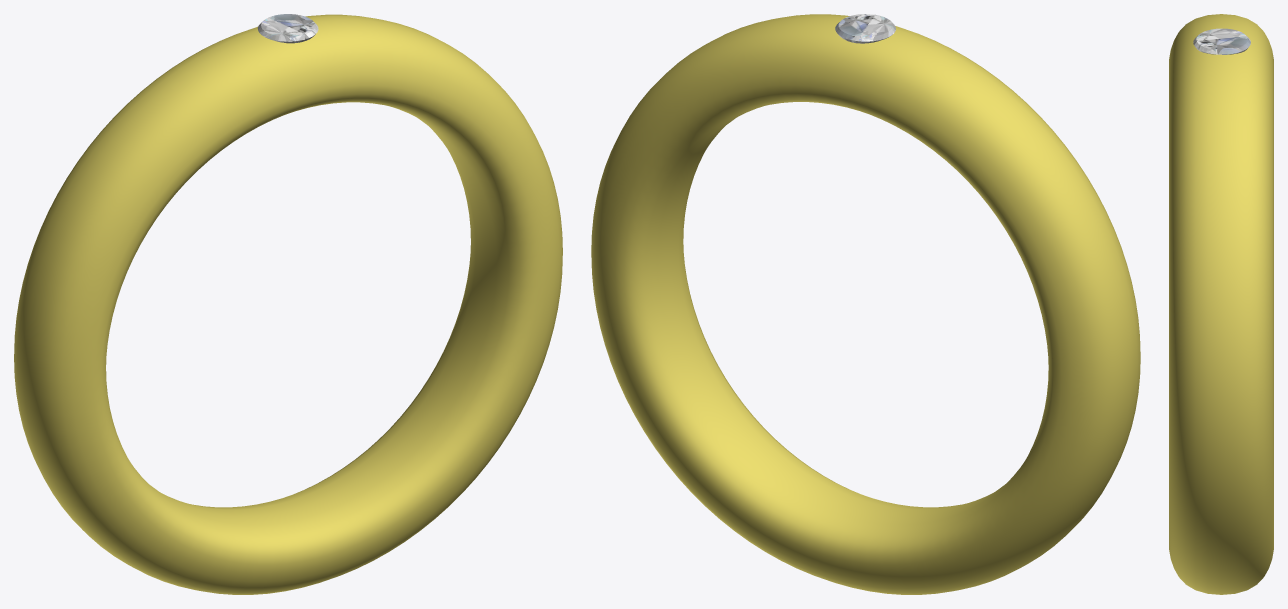
The model's file is tradringfinacompedra.glb.
The picture shows the model from 3 angles, left to right: view 1: azimuth 30°, elevation 25°; view 2: azimuth 150°, elevation 25°; view 3: azimuth 270°, elevation 25°; orthographic projection. The views are drawn at different scales.
Visible parts, largest first — view 1: Circle, Cone; view 2: Circle, Cone; view 3: Circle, Cone.
Part boxes in pixels (x1=…): Circle: x1=14, y1=14, x2=562, y2=594; Cone: x1=257, y1=14, x2=318, y2=43; Circle: x1=591, y1=14, x2=1140, y2=594; Cone: x1=835, y1=14, x2=895, y2=43; Circle: x1=1169, y1=14, x2=1273, y2=594; Cone: x1=1193, y1=28, x2=1250, y2=54.
Bounding box in the file's own units: 1.97 × 1.97 × 0.3553.
Materials: 2 (1 with a texture image).
